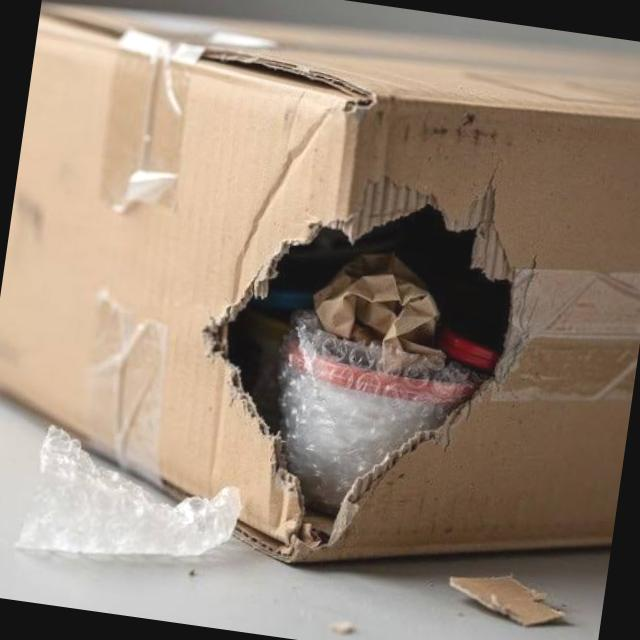carton_box: (0, 0, 640, 619)
package_damage: (150, 120, 591, 614)
